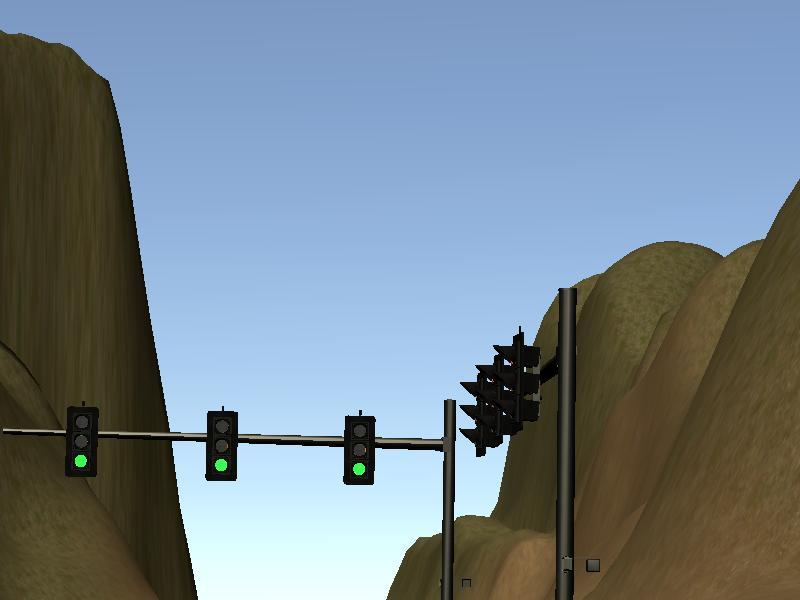Green: (65, 407, 98, 477), (343, 416, 376, 486), (205, 411, 238, 481)
